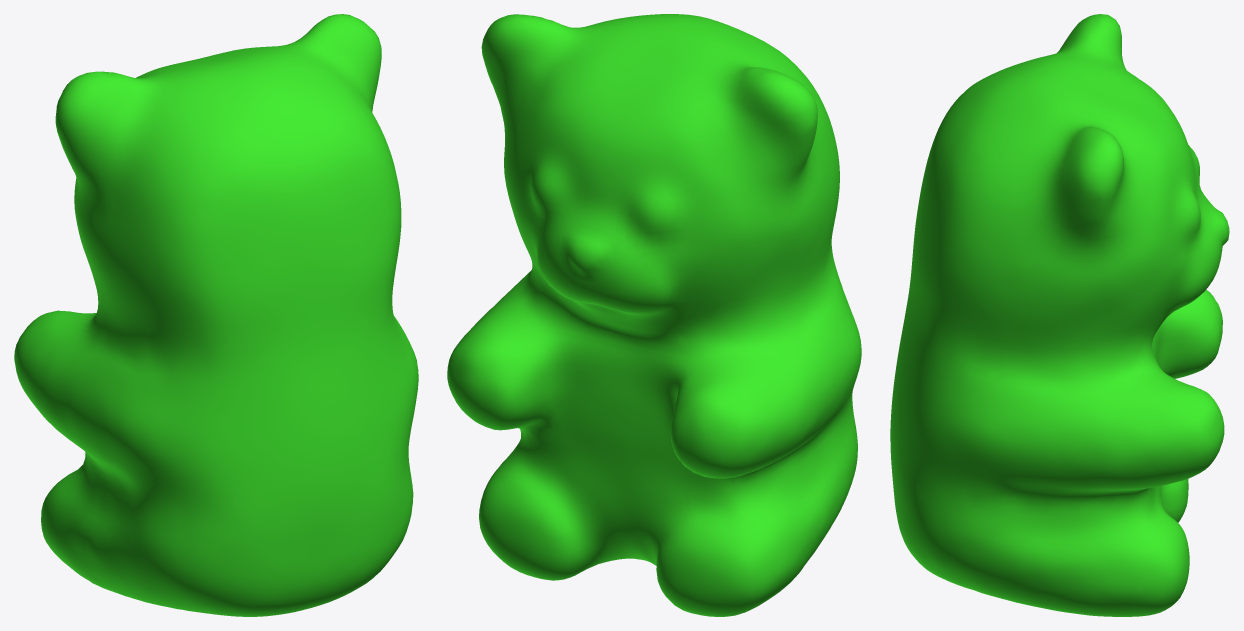
The model's file is Orso texturizzato Basta.fbx.
3 views of the same model, side by side, from view 1: azimuth 30°, elevation 25°; view 2: azimuth 150°, elevation 25°; view 3: azimuth 270°, elevation 25° (orthographic). The views are drawn at different scales.
Parts seen in each view (by area): view 1: gummy bear.150; view 2: gummy bear.150; view 3: gummy bear.150.
Part boxes in pixels (x1,y1,x2,y2): gummy bear.150: (14, 14, 418, 616); gummy bear.150: (447, 14, 861, 616); gummy bear.150: (890, 14, 1229, 616).
Size of the model in its own units: 427 by 655 by 404.
